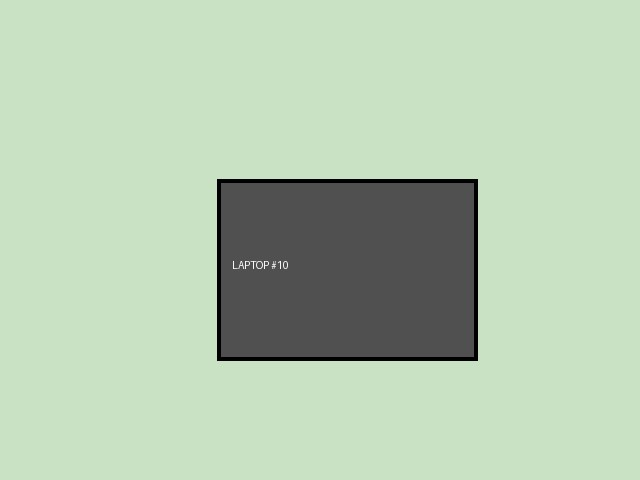laptop: (217, 179, 477, 360)
